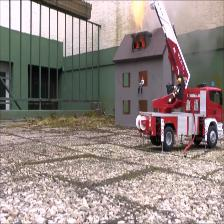fire: (132, 1, 146, 29)
